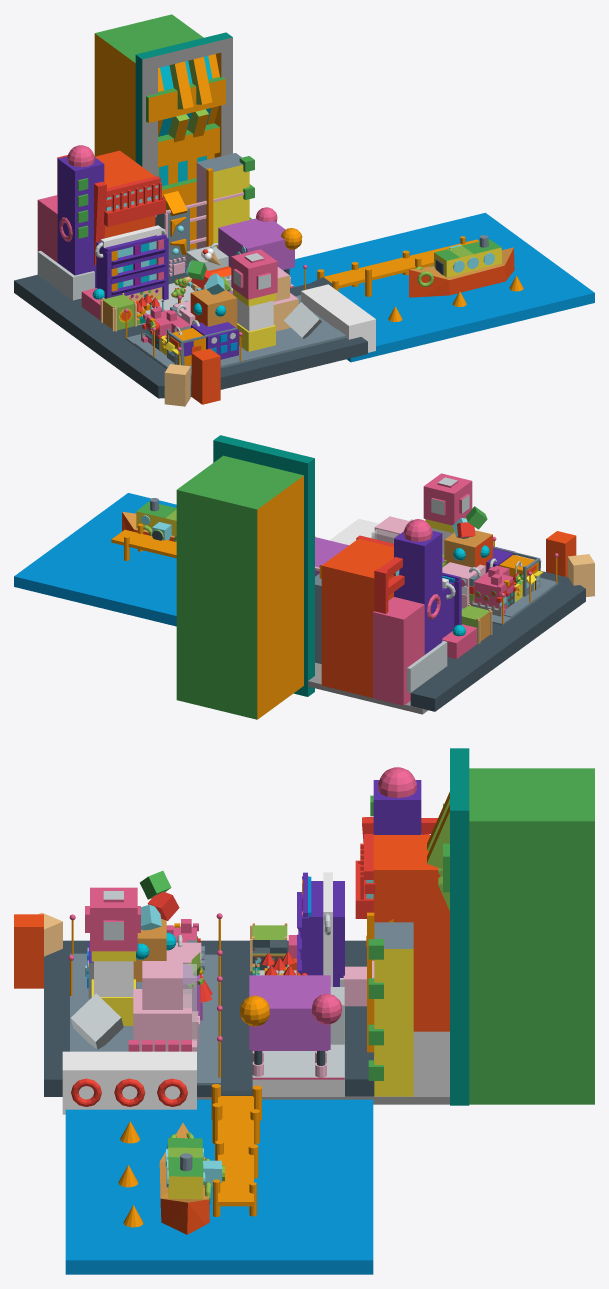
The model's file is ProLiantVillage.glb.
The picture shows the model from 3 angles, top to bottom: view 1: azimuth 30°, elevation 25°; view 2: azimuth 150°, elevation 25°; view 3: azimuth 270°, elevation 25°; orthographic projection. The views are drawn at different scales.
Parts seen in each view (by area): view 1: group992920988, group1569413968, group414357712, group1643420536, group676558152, group1122170750, group1453221850, group2026192871, group880128162, group1754984776, group642123494, group2062560926 (+27 smaller); view 2: group1569413968, group992920988, group642123494, group414357712, group759333935, group1643420536, group880128162, group1439635812, group1571301754, group442762496, group257320616, group1503235509 (+18 smaller); view 3: group992920988, group1569413968, group414357712, group642123494, group1453221850, group676558152, group1452230727, group2026192871, group2056379575, group1787663556, group1122170750, group680713391 (+23 smaller).
Part boxes in pixels (x1=…): group992920988: x1=283, y1=212, x2=594, y2=362; group1569413968: x1=94, y1=14, x2=225, y2=249; group414357712: x1=14, y1=272, x2=367, y2=398; group1643420536: x1=57, y1=156, x2=104, y2=288; group676558152: x1=196, y1=153, x2=249, y2=249; group1122170750: x1=96, y1=235, x2=165, y2=301; group1453221850: x1=301, y1=284, x2=375, y2=352; group2026192871: x1=218, y1=218, x2=294, y2=269; group880128162: x1=135, y1=51, x2=157, y2=196; group1754984776: x1=409, y1=247, x2=514, y2=297; group642123494: x1=95, y1=150, x2=155, y2=238; group2062560926: x1=134, y1=329, x2=346, y2=375; group1569413968: x1=176, y1=455, x2=303, y2=719; group992920988: x1=14, y1=493, x2=176, y2=626; group642123494: x1=321, y1=538, x2=393, y2=697; group414357712: x1=410, y1=571, x2=585, y2=711; group759333935: x1=373, y1=597, x2=424, y2=705; group1643420536: x1=394, y1=531, x2=442, y2=654; group880128162: x1=291, y1=454, x2=314, y2=696; group1439635812: x1=423, y1=473, x2=472, y2=525; group1571301754: x1=213, y1=435, x2=298, y2=472; group442762496: x1=444, y1=530, x2=492, y2=571; group257320616: x1=407, y1=640, x2=447, y2=692; group1503235509: x1=546, y1=531, x2=576, y2=577; group992920988: x1=65, y1=1099, x2=373, y2=1274; group1569413968: x1=443, y1=768, x2=594, y2=1104; group414357712: x1=44, y1=940, x2=374, y2=1096; group642123494: x1=373, y1=835, x2=449, y2=1031; group1453221850: x1=62, y1=1051, x2=196, y2=1114; group676558152: x1=374, y1=922, x2=413, y2=1096; group1452230727: x1=450, y1=828, x2=469, y2=1105; group2026192871: x1=249, y1=975, x2=330, y2=1050; group2056379575: x1=197, y1=1006, x2=449, y2=1104; group1787663556: x1=218, y1=1096, x2=253, y2=1206; group1122170750: x1=297, y1=881, x2=344, y2=986; group680713391: x1=94, y1=954, x2=220, y2=1085.
Size of the model in its own units: 5.95 by 2.9 by 4.85.
